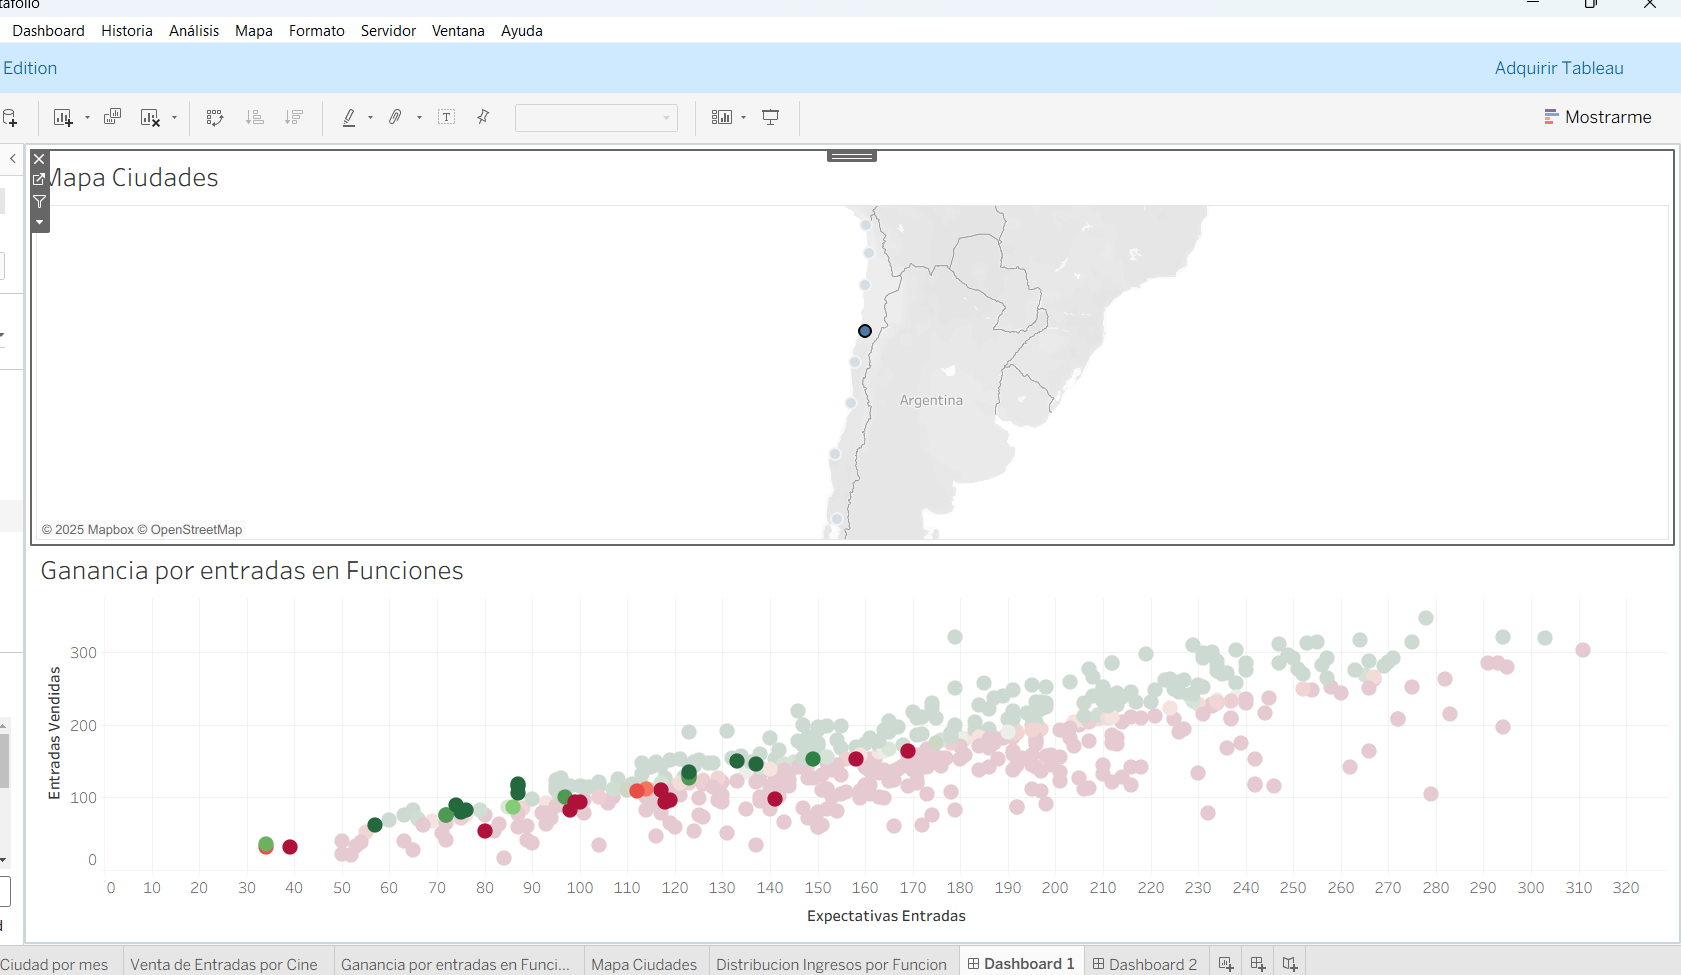

The page's visual inventory and layout, read from the dashboard file:
{"tool":"tableau","page":{"name":"Dashboard 1","canvas":[1000,1000],"units":"permille","ordinal":0},"visuals":[{"type":"worksheet","title":"Mapa Ciudades","mark":"Automatic","box":[4.8,10,990.3,490]},{"type":"worksheet","title":"Ganancia por entradas en Funciones","mark":"Circle","rows":["EntradasVendidas"],"cols":["ExpectativasEntradas"],"box":[4.8,500,990.3,490]}]}

Visuals, with their boxes on the dashboard's canvas, which has no fixed pixel size, in thousandths of its width and height (x1, y1, x2, y2). These are canvas units, not pixel positions in the 1681x975 screenshot, which may show the page scaled, cropped or inside an application window:
"Mapa Ciudades" worksheet: BBox(5, 10, 995, 500)
"Ganancia por entradas en Funciones" worksheet (Circle marks): BBox(5, 500, 995, 990)
